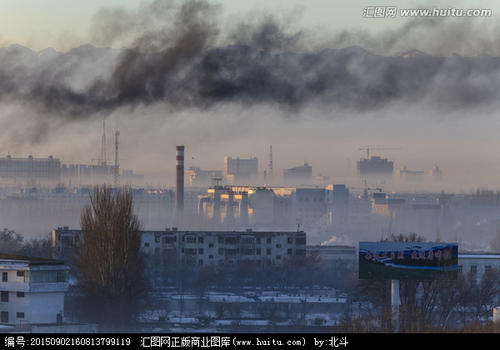smoke: (4, 28, 496, 108)
